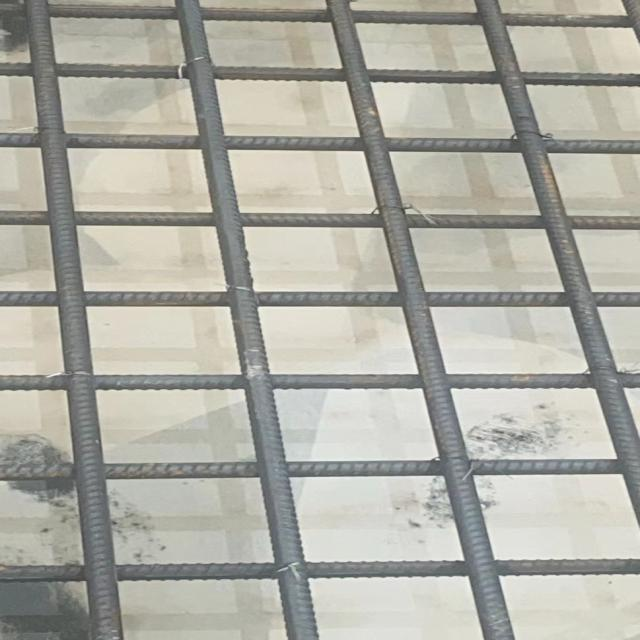ribbed bar: (323, 0, 518, 639), (172, 0, 322, 639), (475, 0, 639, 529), (22, 0, 125, 639), (0, 2, 639, 29), (0, 556, 639, 582), (0, 62, 639, 87), (0, 131, 639, 155), (0, 457, 622, 481), (0, 210, 639, 231), (0, 290, 639, 308), (0, 372, 639, 389)
